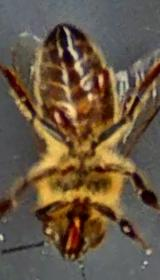varroa_mite: (80, 62, 128, 103), (44, 102, 84, 141)
